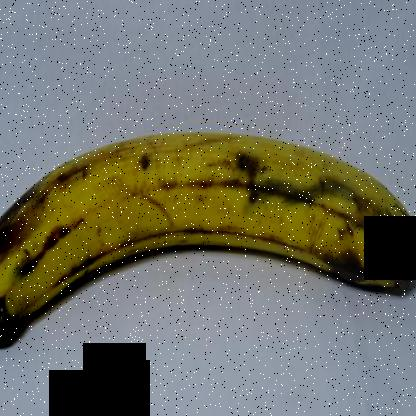ripe: (1, 111, 415, 367)
